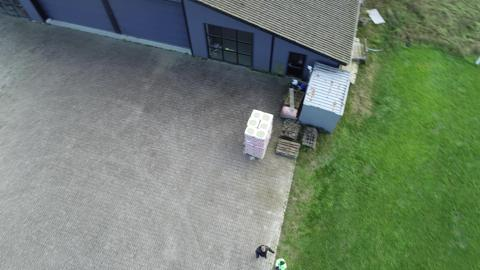RockwoolPallet: (244, 109, 275, 160)
